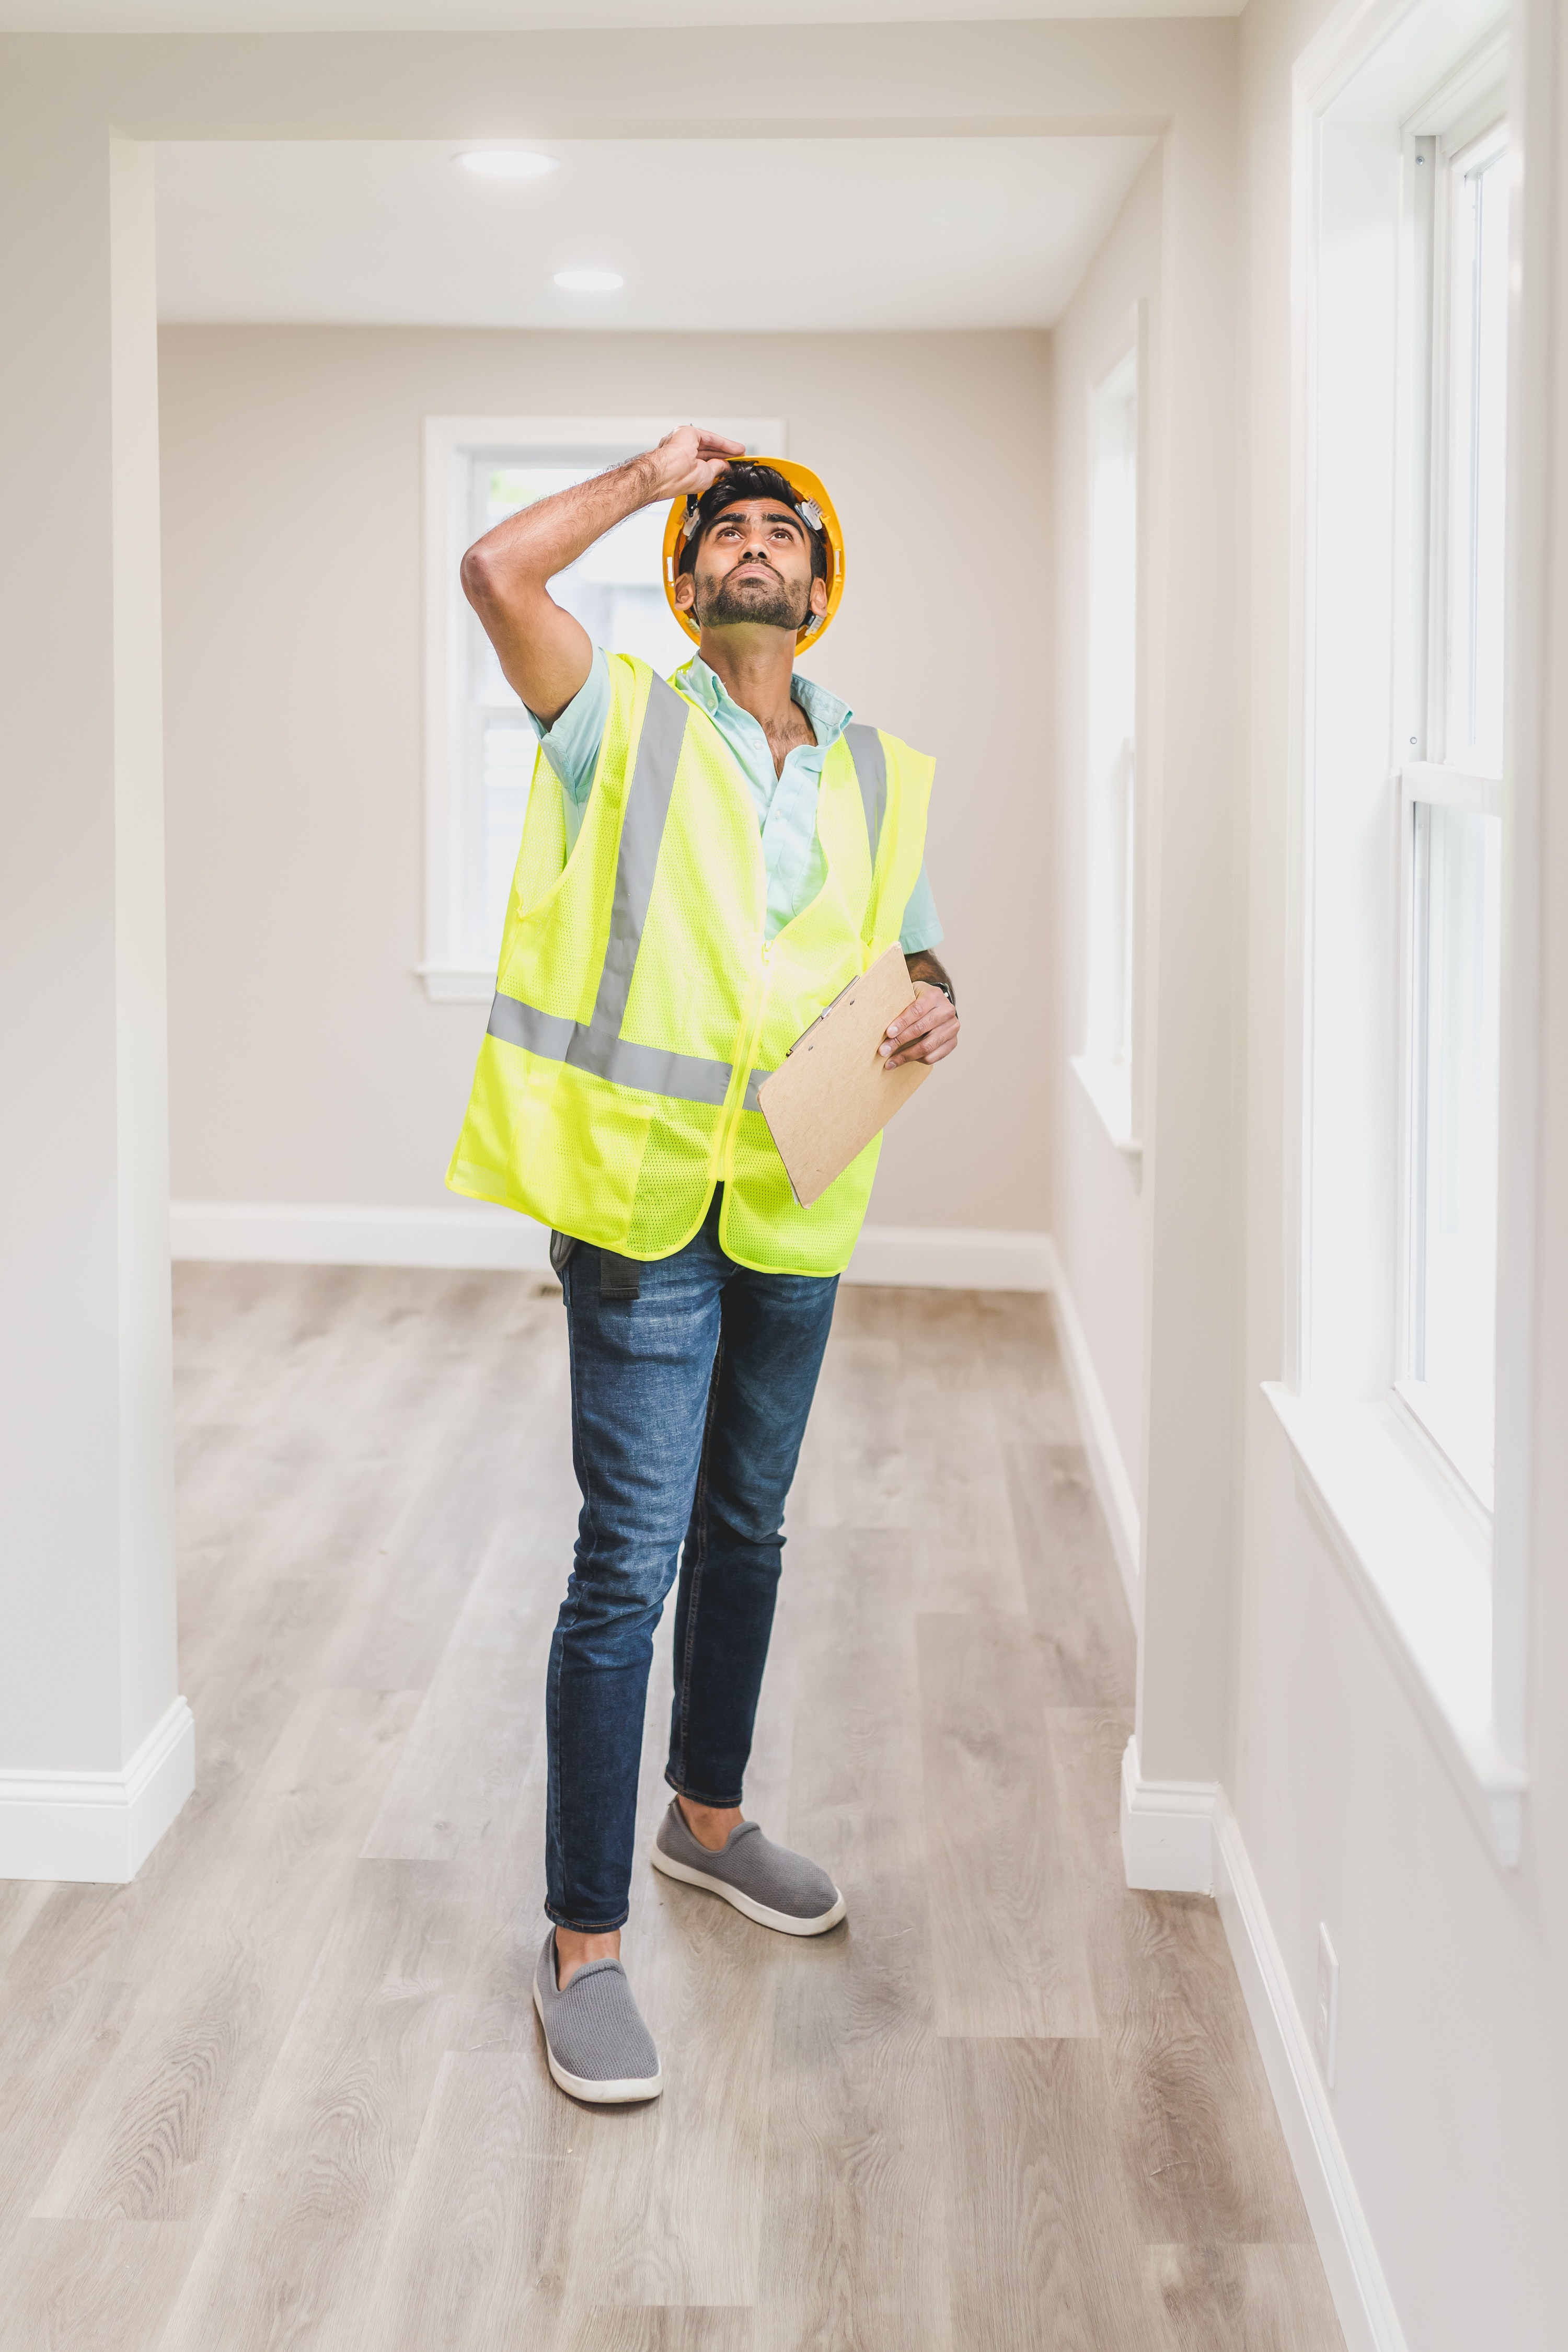Helmet: (658, 453, 849, 660)
Reflective vest: (439, 640, 945, 1297)
